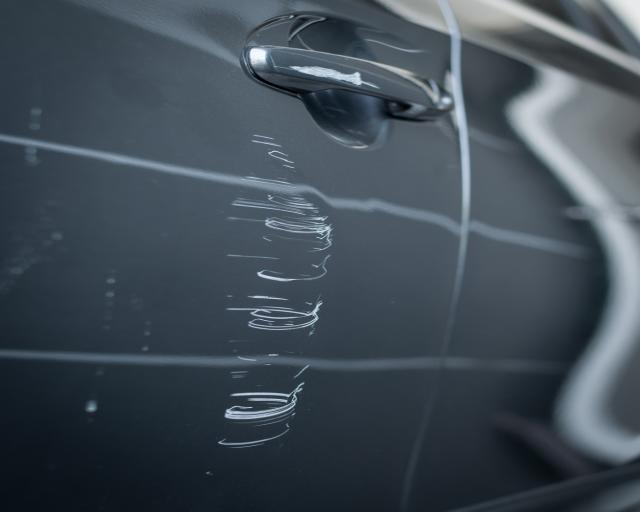scratch: (214, 133, 337, 454), (286, 66, 382, 89)
